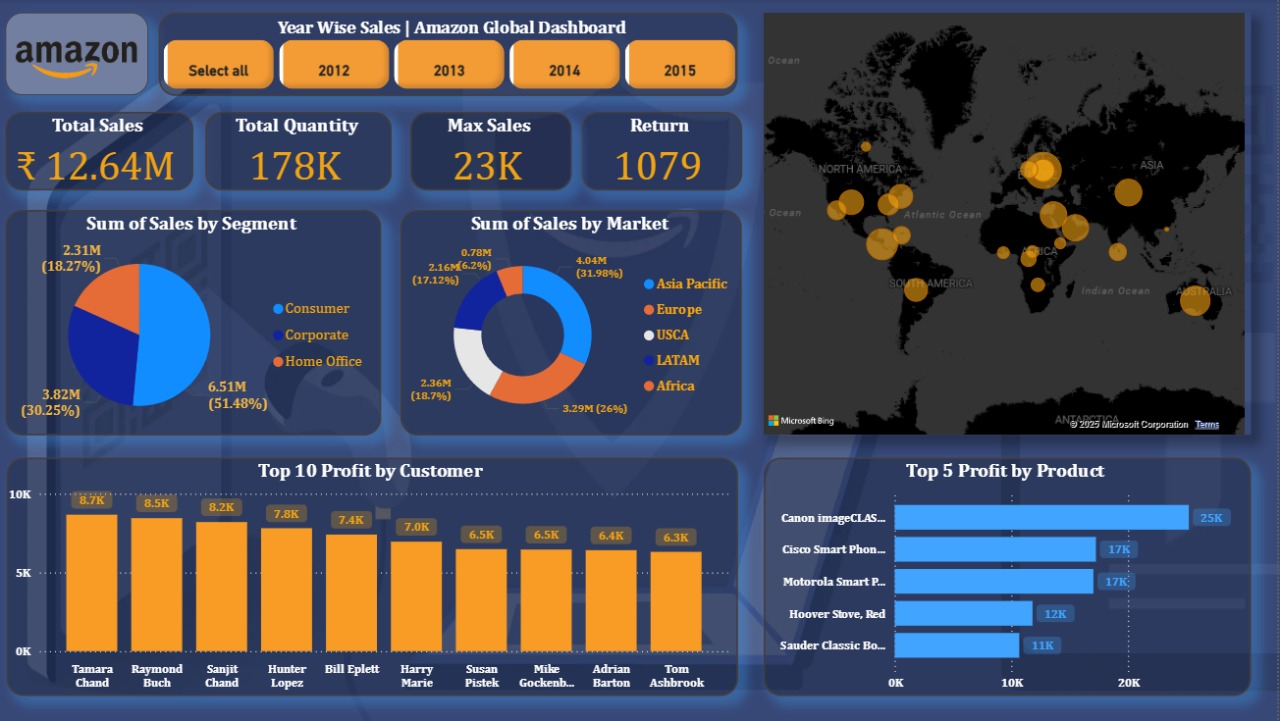

Layout of this report page (visuals, bound fields, positions):
{"tool":"powerbi","page":{"name":"Page 1","canvas":[1280,720],"ordinal":0},"visuals":[{"type":"image","box":[12.3,13.7,142.7,82.3],"z":0},{"type":"advancedSlicerVisual","title":"Year Wise Sales | Amazon Global Dashboard","fields":{"Values":["Orders.Order Year"]},"box":[165.1,13.5,577.2,83.2],"z":1000},{"type":"card","title":"Total Sales","fields":{"Values":["Orders.currency"]},"box":[12.2,112.5,187.1,78.3],"z":2000},{"type":"card","title":"Total Quantity","fields":{"Values":["Orders.Quantity"]},"box":[211.6,112.5,185.9,78.3],"z":3000},{"type":"card","title":"Return","fields":{"Values":["Returns.Returned"]},"box":[586,113,161,78],"z":4000},{"type":"card","title":"Max Sales","fields":{"Values":["Orders.Sales"]},"box":[416,113,161,78],"z":5000},{"type":"pieChart","fields":{"Category":["Orders.Segment"],"Y":["Orders.Sales"]},"box":[12.3,209.9,374.6,225],"z":6000},{"type":"donutChart","fields":{"Y":["Orders.Sales"],"Category":["Orders.Market"]},"box":[406.2,209.9,340.3,225],"z":7000},{"type":"map","fields":{"Size":["Orders.Sales"],"Category":["Orders.Region"]},"box":[768.4,13.7,485.8,421.3],"z":8000},{"type":"clusteredColumnChart","title":"Top 10 Profit by Customer","fields":{"Y":["Orders.Profit"],"Category":["Orders.Customer Name"]},"box":[13.5,457.3,728.8,237.2],"z":9000},{"type":"clusteredBarChart","title":"Top 5 Profit by Product","fields":{"Y":["Orders.Profit"],"Category":["Orders.Product Name"]},"box":[768.4,456.9,485.8,237.4],"z":9001}]}

Visuals, with their boxes in screenshot pixels (x1, y1, x2, y2), scaled from the page's 1280x720 canvas onto the 1280x721 screenshot:
image: bbox(12, 14, 155, 96)
"Year Wise Sales | Amazon Global Dashboard" advancedSlicerVisual: bbox(165, 14, 742, 97)
"Total Sales" card: bbox(12, 113, 199, 191)
"Total Quantity" card: bbox(212, 113, 398, 191)
"Return" card: bbox(586, 113, 747, 191)
"Max Sales" card: bbox(416, 113, 577, 191)
pieChart - Orders.Segment x Orders.Sales: bbox(12, 210, 387, 436)
donutChart - Orders.Sales x Orders.Market: bbox(406, 210, 746, 436)
map - Orders.Sales x Orders.Region: bbox(768, 14, 1254, 436)
"Top 10 Profit by Customer" clusteredColumnChart: bbox(14, 458, 742, 695)
"Top 5 Profit by Product" clusteredBarChart: bbox(768, 458, 1254, 695)
